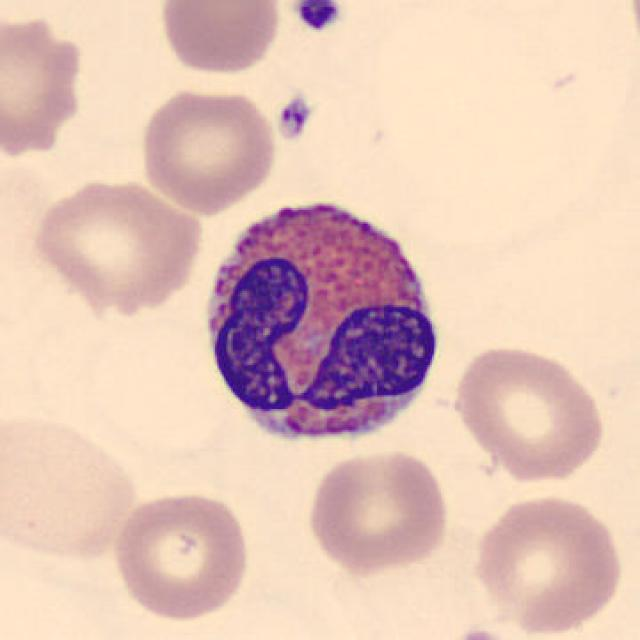Eosinophil: (192, 180, 453, 462)
Platelets: (274, 93, 314, 141), (290, 0, 345, 33), (442, 626, 524, 640)
RBC: (23, 174, 208, 316), (448, 340, 610, 485), (470, 490, 628, 637), (0, 405, 142, 566), (108, 487, 254, 624), (302, 446, 453, 575), (315, 529, 485, 640), (137, 83, 279, 215), (0, 5, 91, 166), (154, 0, 284, 78)
